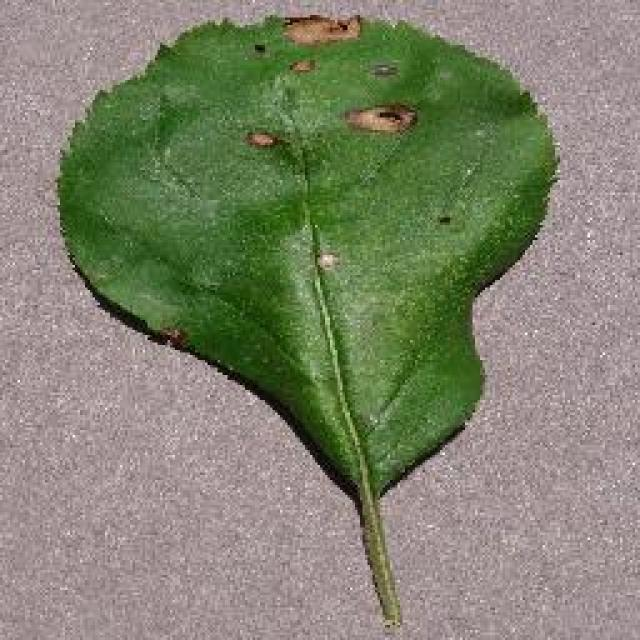Black_rot: (52, 10, 560, 628)
